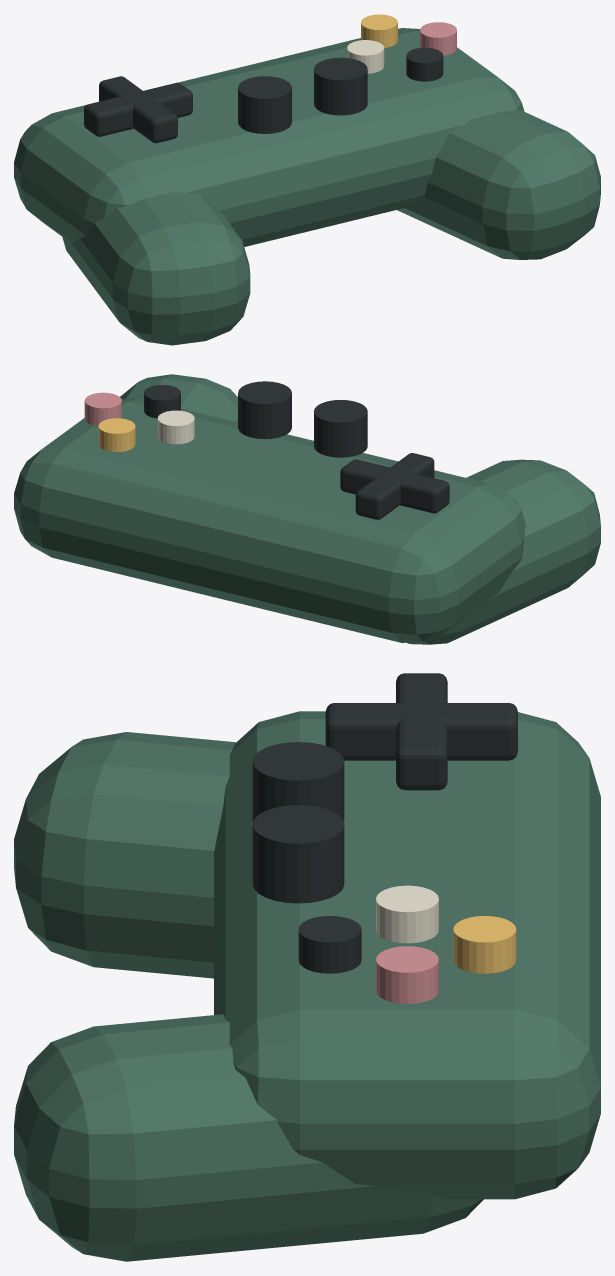
Rendered from controller-v01.glb.
3 views of the same model, one above another, from view 1: azimuth 30°, elevation 25°; view 2: azimuth 150°, elevation 25°; view 3: azimuth 270°, elevation 25° (orthographic). The views are drawn at different scales.
Visible parts, largest first — view 1: Controller body, Grip.001, Grip, Thumb stick.001, Thumb stick, D-pad horizontal, D-pad vertical, Action button.003, Action button, Action button.001, Action button.002; view 2: Controller body, Grip, D-pad horizontal, Thumb stick.001, Thumb stick, Grip.001, D-pad vertical, Action button.002, Action button, Action button.001, Action button.003; view 3: Controller body, Grip.001, Grip, Thumb stick.001, D-pad vertical, Thumb stick, D-pad horizontal, Action button.003, Action button, Action button.001, Action button.002.
Part boxes in pixels (x1,y1,x2,y2): Controller body: (14,28,524,246); Grip.001: (397,110,600,259); Grip: (62,191,250,345); Thumb stick.001: (314,57,367,115); Thumb stick: (238,76,291,133); D-pad horizontal: (84,82,192,136); D-pad vertical: (99,76,177,143); Action button.003: (406,47,443,81); Action button: (361,14,397,47); Action button.001: (420,22,456,55); Action button.002: (347,40,384,73); Controller body: (14,398,525,642); Grip: (406,459,600,644); D-pad horizontal: (340,459,449,513); Thumb stick.001: (238,381,291,439); Thumb stick: (314,400,367,457); Grip.001: (120,374,237,422); D-pad vertical: (355,453,434,519); Action button.002: (157,410,194,444); Action button: (98,418,135,451); Action button.001: (84,392,121,426); Action button.003: (144,385,180,418); Controller body: (214,711,600,1199); Grip.001: (14,1014,483,1261); Grip: (14,732,236,978); Thumb stick.001: (252,805,344,903); D-pad vertical: (325,703,517,760); Thumb stick: (252,742,344,822); D-pad horizontal: (396,673,447,790); Action button.003: (298,916,361,973); Action button: (453,916,516,973); Action button.001: (376,946,438,1003); Action button.002: (376,885,438,943).
Size of the model in its own units: 0.3261 by 0.116 by 0.2047.
